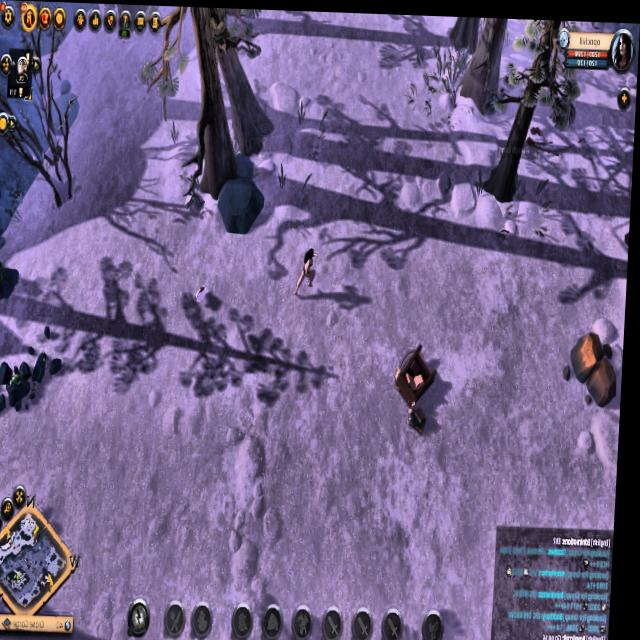copper_ore: (0, 253, 21, 310)
limestone: (566, 322, 625, 411)
tin_ore: (0, 253, 22, 309), (0, 253, 21, 310)
